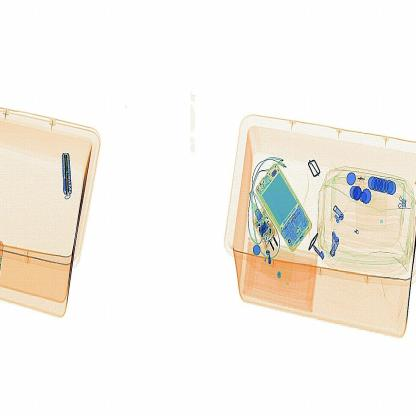scissors: (59, 143, 77, 200)
